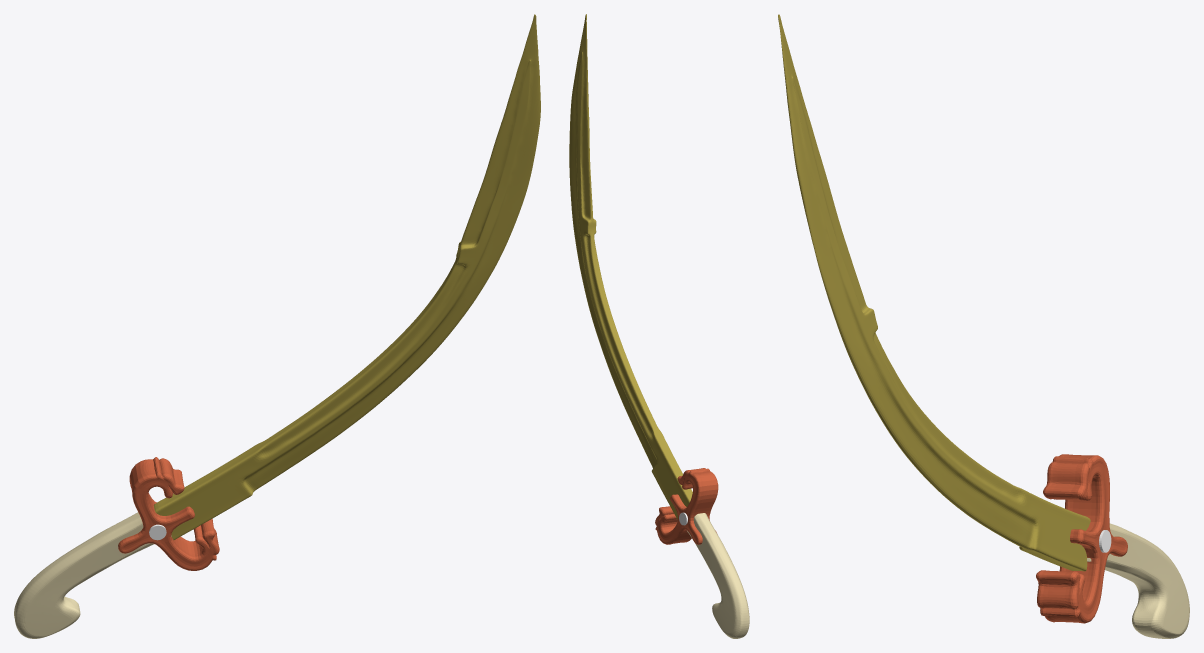
The model's file is COSSACK_WEAPON_16#2.glb.
3 views of the same model, side by side, from view 1: azimuth 30°, elevation 25°; view 2: azimuth 150°, elevation 25°; view 3: azimuth 270°, elevation 25° (orthographic). The views are drawn at different scales.
Parts seen in each view (by area): view 1: mech.003; view 2: mech.003; view 3: mech.003.
Boxes of the visible parts, x1=… form: mech.003: x1=14, y1=14, x2=540, y2=638; mech.003: x1=569, y1=14, x2=749, y2=638; mech.003: x1=778, y1=14, x2=1189, y2=638.
Bounding box in the file's own units: 2.58 × 4.18 × 1.84.
